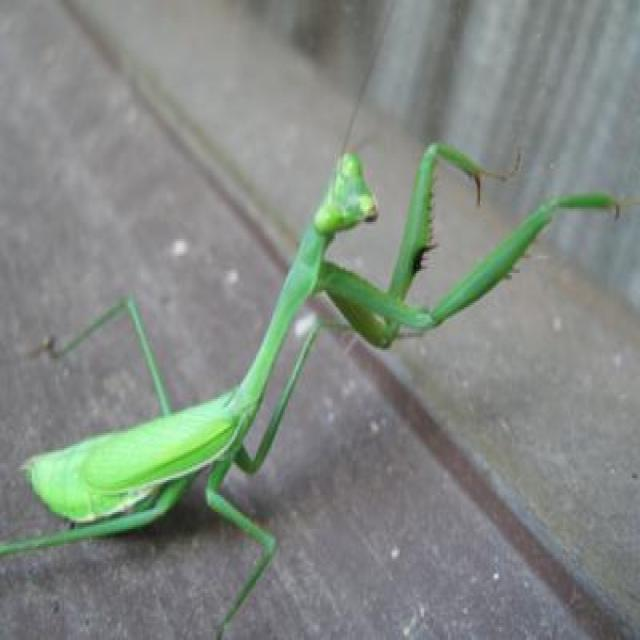antennae: (343, 11, 394, 151)
body: (31, 150, 378, 521)
insect: (0, 1, 612, 640)
legs: (314, 199, 603, 347), (315, 148, 522, 346), (231, 316, 358, 478), (30, 307, 178, 421), (0, 475, 196, 557), (205, 453, 274, 639)
mouthpart: (358, 197, 384, 242)
wings: (30, 394, 238, 520)
